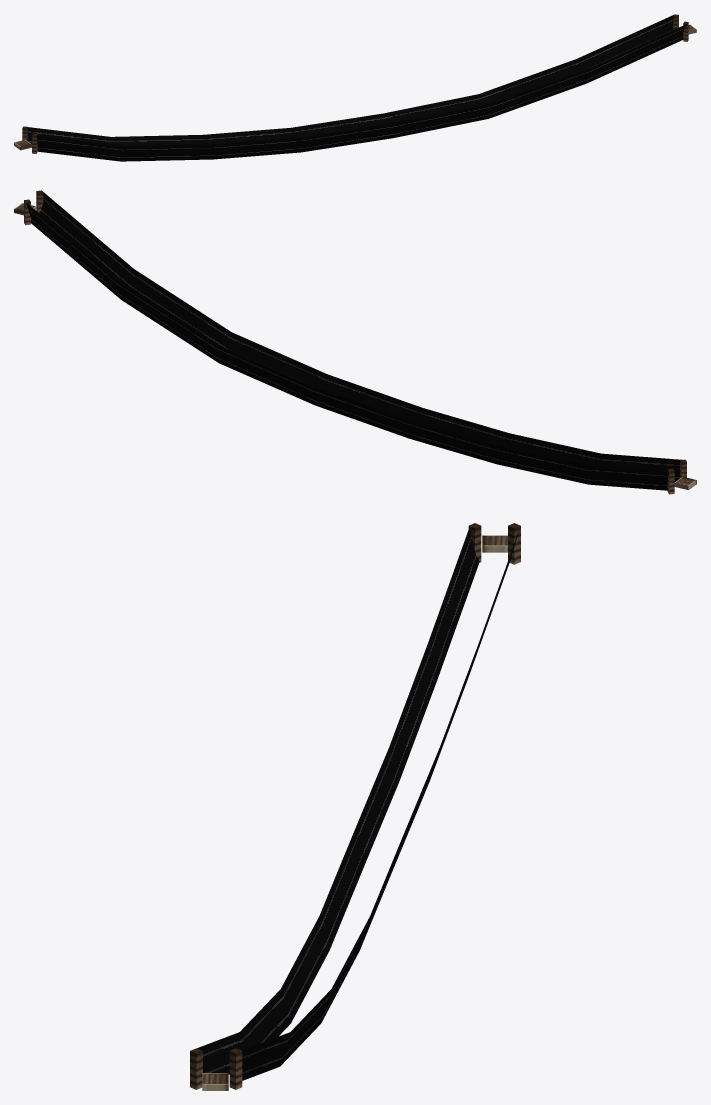
File: M11_OverheadWires.glb
3 views of the same model, one above another, from view 1: azimuth 30°, elevation 25°; view 2: azimuth 150°, elevation 25°; view 3: azimuth 270°, elevation 25° (orthographic). The views are drawn at different scales.
Parts seen in each view (by area): view 1: M11_OVERHEADWIRES; view 2: M11_OVERHEADWIRES; view 3: M11_OVERHEADWIRES.
Boxes of the visible parts, bbox=[...] form: M11_OVERHEADWIRES: bbox=[14, 14, 696, 161]; M11_OVERHEADWIRES: bbox=[14, 190, 696, 494]; M11_OVERHEADWIRES: bbox=[190, 523, 520, 1090].
Size of the model in its own units: 20 by 2.41 by 4.72.
2 materials, 2 textured.
